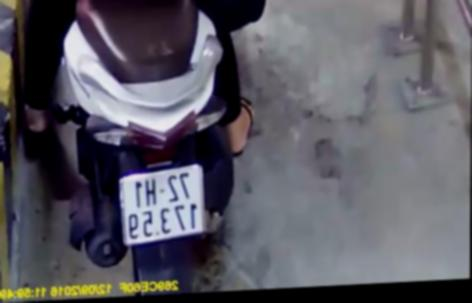License_Plate: (114, 161, 214, 252)
